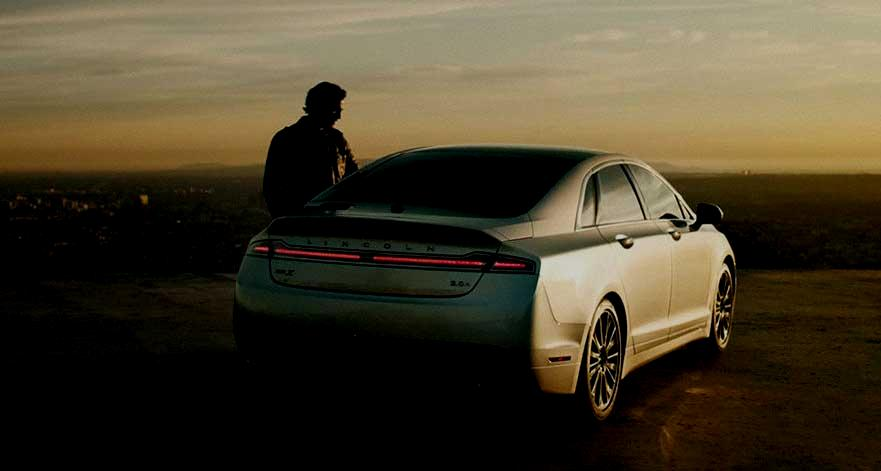lincoln: (304, 233, 436, 256)
